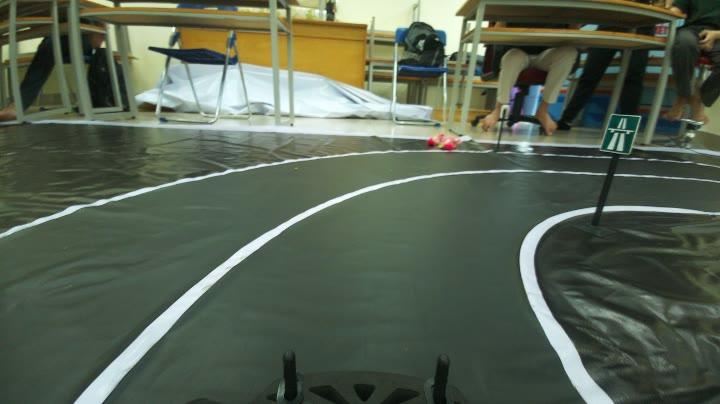highway_entry: (603, 107, 640, 159)
